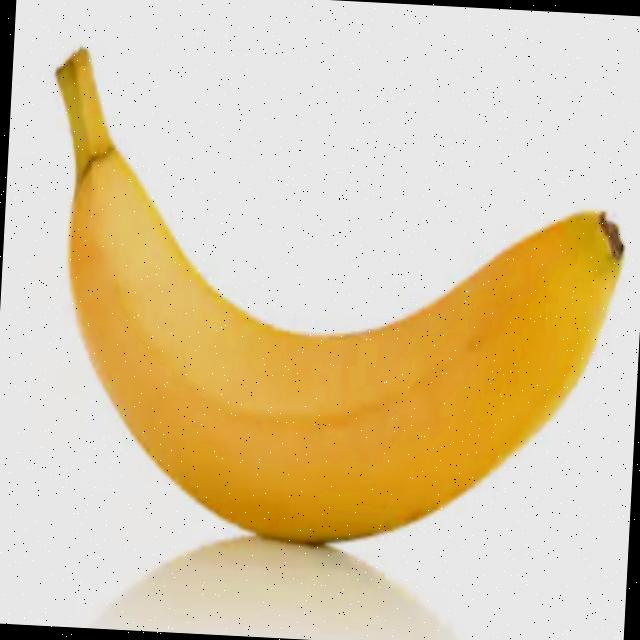Ripe: (25, 32, 638, 566)
